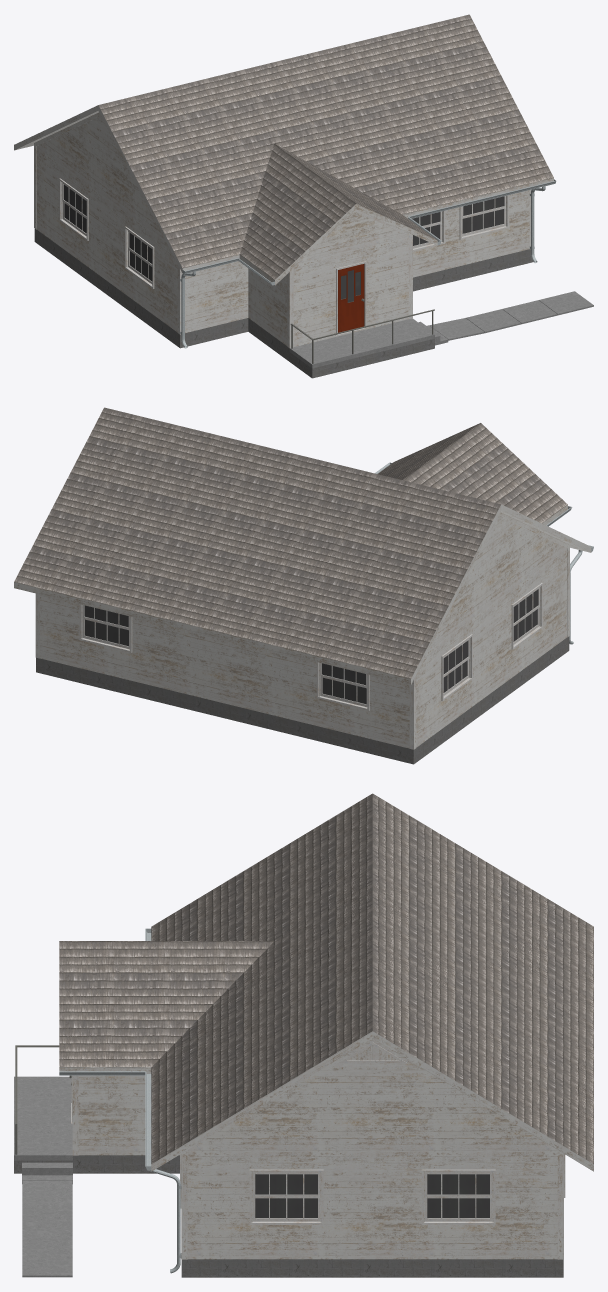
Rendered from House.obj.
3 renders of one model, top to bottom at view 1: azimuth 30°, elevation 25°; view 2: azimuth 150°, elevation 25°; view 3: azimuth 270°, elevation 25°, orthographic. The views are drawn at different scales.
Visible parts, largest first — view 1: Material2.007, Material2.005, Material2.006, Material2.003, Material2.001, Material2.008, Material2, Material2.002; view 2: Material2.007, Material2.005, Material2.006, Material2.001; view 3: Material2.007, Material2.005, Material2.003, Material2.006, Material2.001, Material2.008.
Part boxes in pixels (x1,y1,x2,y2): Material2.007: [98, 14, 553, 279]; Material2.005: [14, 105, 553, 348]; Material2.006: [34, 228, 533, 378]; Material2.003: [289, 291, 593, 368]; Material2.001: [63, 184, 504, 302]; Material2.008: [180, 179, 556, 348]; Material2: [338, 264, 364, 332]; Material2.002: [290, 272, 434, 363]; Material2.007: [14, 407, 567, 678]; Material2.005: [14, 504, 591, 749]; Material2.006: [36, 636, 569, 764]; Material2.001: [84, 589, 538, 704]; Material2.007: [59, 793, 593, 1163]; Material2.005: [59, 1031, 593, 1259]; Material2.003: [14, 1076, 72, 1277]; Material2.006: [14, 1155, 563, 1277]; Material2.001: [255, 1174, 489, 1217]; Material2.008: [59, 928, 181, 1273].
Bounding box in the file's own units: 26.38 × 13.05 × 27.2.
